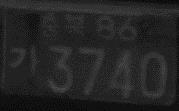0: (139, 50, 168, 99)
3: (45, 43, 74, 93)
4: (106, 48, 137, 100)
6: (118, 14, 138, 43)
7: (77, 43, 107, 95)
8: (95, 15, 116, 44)
가: (9, 43, 42, 79)
충북_O: (40, 11, 87, 40)
